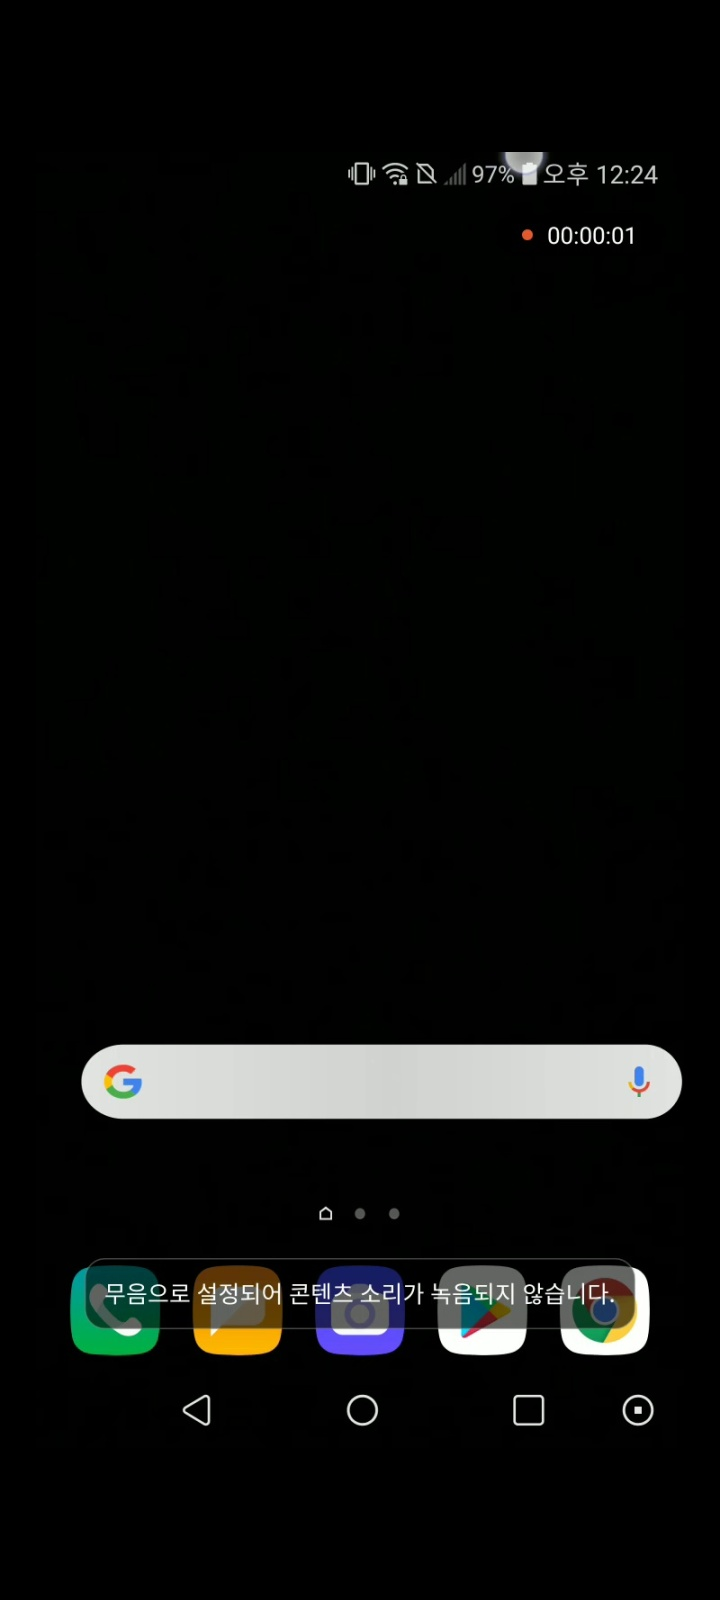Cursor: (503, 153, 546, 179)
